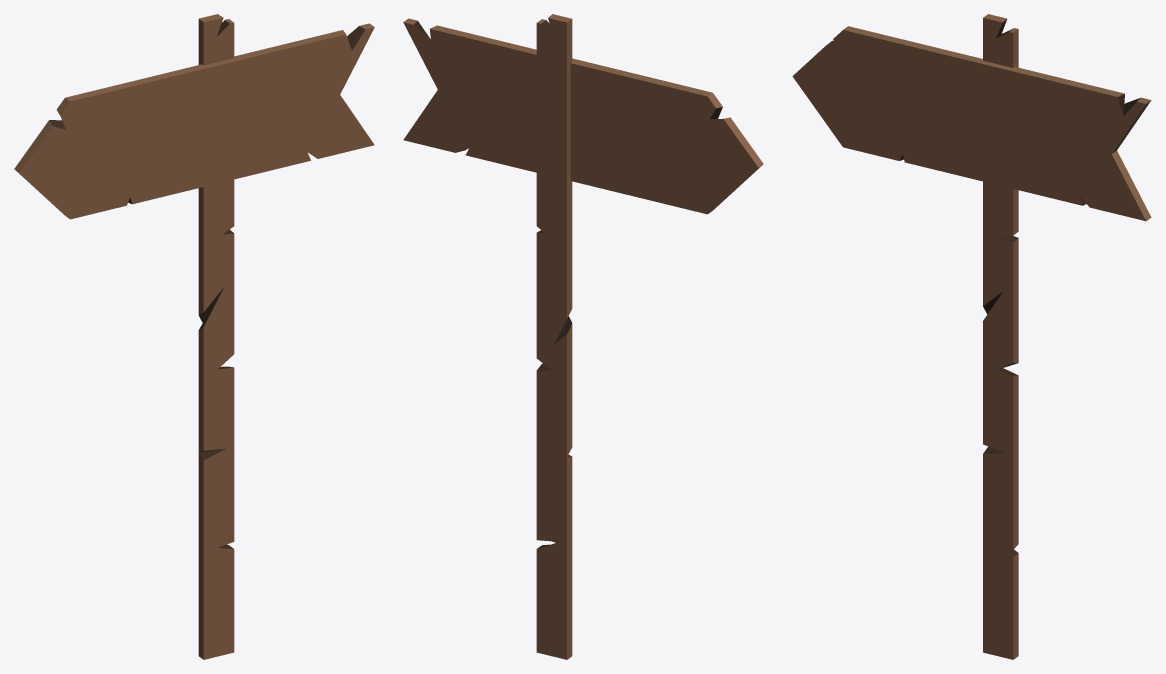
Rendered from Sign_1_Light_Brown.fbx.
The picture shows the model from 3 angles, left to right: view 1: azimuth 30°, elevation 25°; view 2: azimuth 150°, elevation 25°; view 3: azimuth 330°, elevation 25°; orthographic projection.
Visible parts, largest first — view 1: Sign_1_Light_Brown; view 2: Sign_1_Light_Brown; view 3: Sign_1_Light_Brown.
Part boxes in pixels (box(x1,y1,x2,y2)): Sign_1_Light_Brown: box(14, 14, 374, 659); Sign_1_Light_Brown: box(403, 14, 763, 659); Sign_1_Light_Brown: box(792, 14, 1151, 659).
Bounding box in the file's own units: 117 × 200 × 5.
